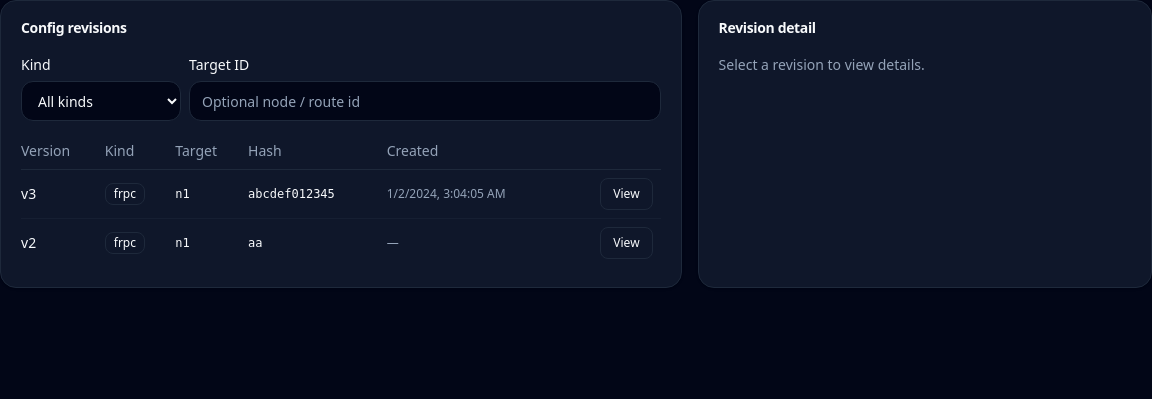
Test: ConfigRevisionHistory › View opens detail panel with metadata and rendered content
The image size is (1152, 399).
Click the button "View" in the row of "abcdef012345" at (626, 194), box [600,178,653,210]
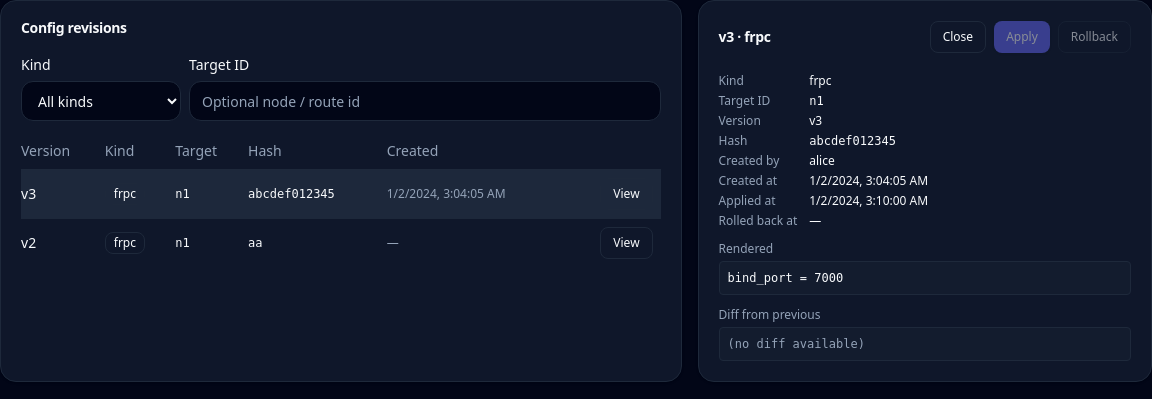
Now the text "bind_port = 7000" is shown, box [719,261,1131,295]
Now the text "alice" is shown, box [809,152,835,169]
Now the text "n1" is shown, box [809,94,824,108]
